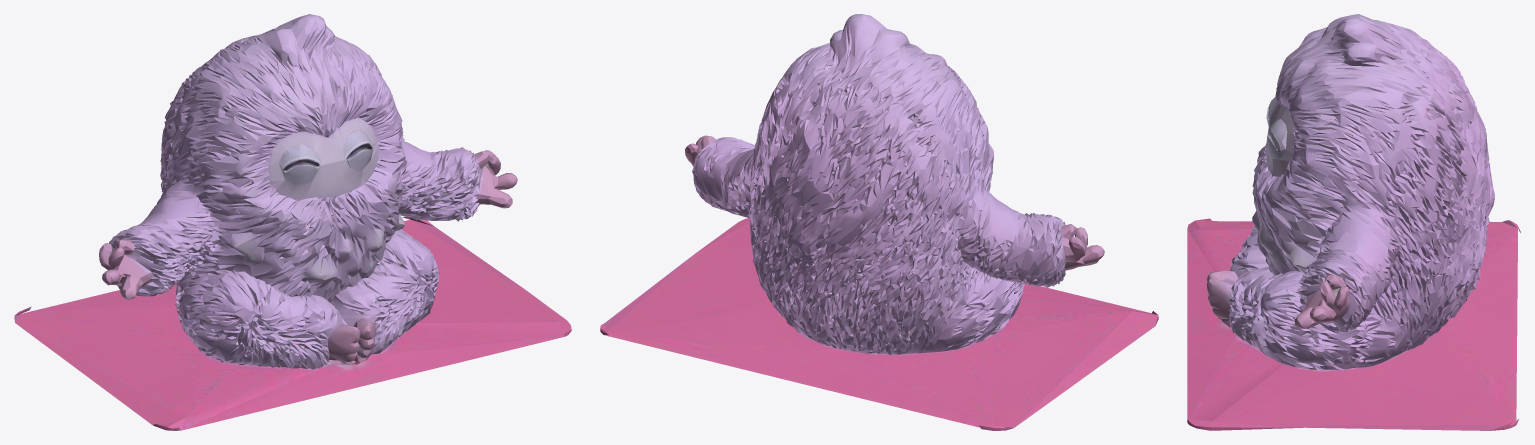
The model's file is yg-fluffy.glb.
3 renders of one model, left to right at view 1: azimuth 30°, elevation 25°; view 2: azimuth 150°, elevation 25°; view 3: azimuth 270°, elevation 25°, orthographic. The views are drawn at different scales.
Parts seen in each view (by area): view 1: output_unwrapped; view 2: output_unwrapped; view 3: output_unwrapped.
Boxes of the visible parts, x1,y1,x2,y2 form: output_unwrapped: (14, 14, 571, 430); output_unwrapped: (600, 14, 1158, 430); output_unwrapped: (1187, 14, 1520, 430).
Bounding box in the file's own units: 1.9 × 1.33 × 1.27.
1 material, 1 textured.
